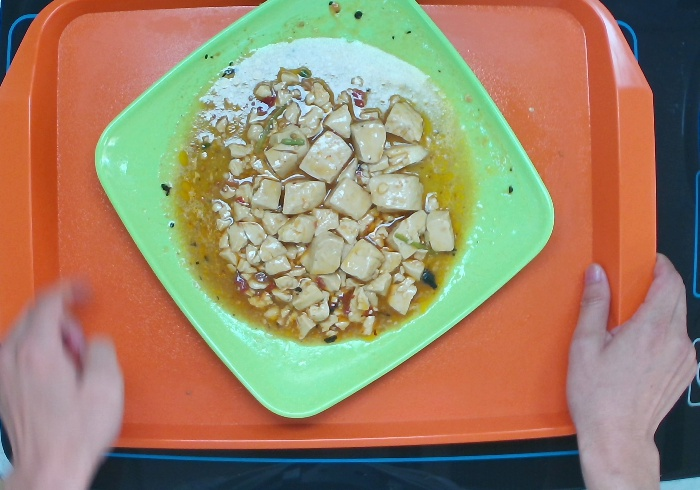ZNLD-Lv_Fang_Pan: (92, 1, 559, 424)
